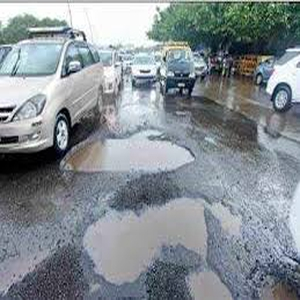pothole: (82, 192, 246, 290), (57, 126, 200, 174)
